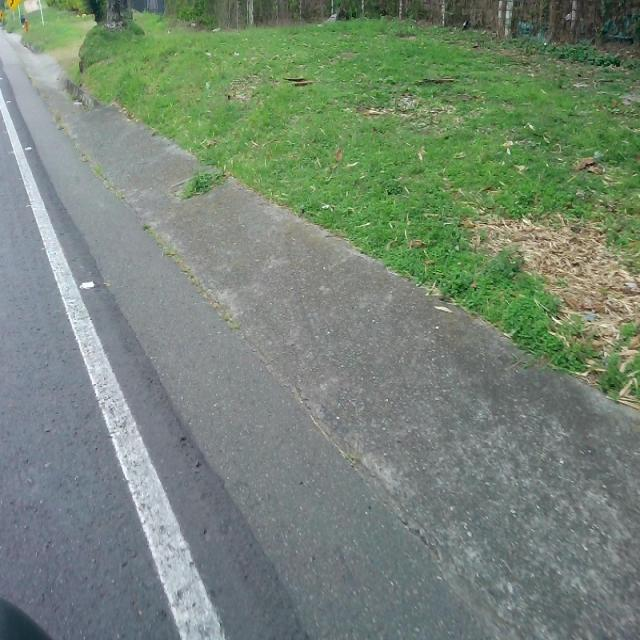DITCH: (1, 6, 639, 637), (1, 20, 639, 639), (1, 87, 638, 638)
